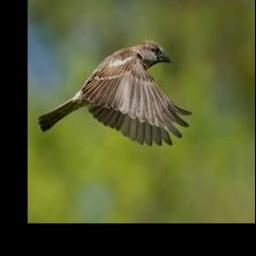Sparrow: (38, 40, 192, 145)
